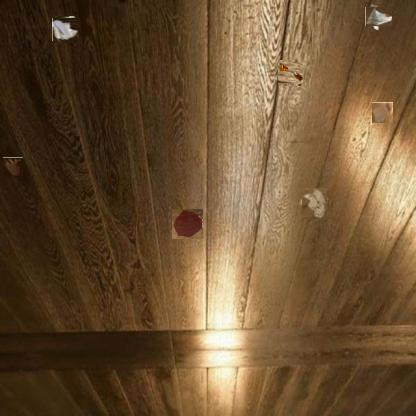dirty: (299, 189, 329, 219), (53, 17, 79, 42), (278, 61, 302, 85), (367, 5, 390, 28), (371, 102, 393, 123)
liquid: (172, 208, 202, 240), (3, 157, 23, 176)
